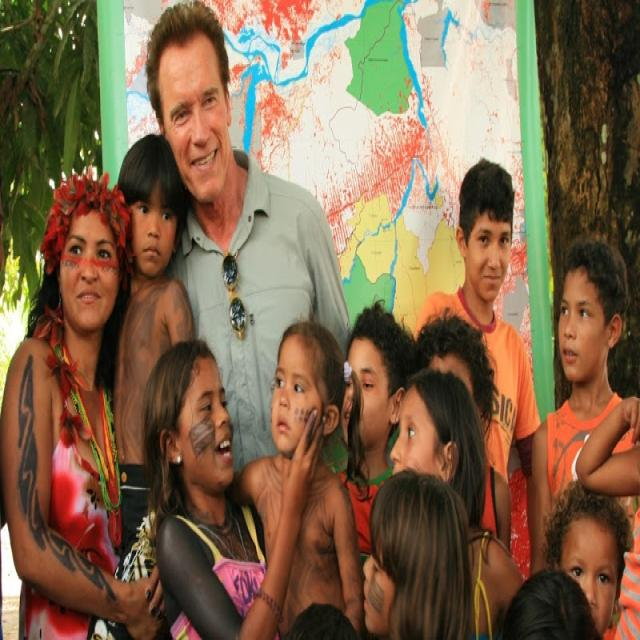body: (143, 3, 354, 475), (0, 173, 165, 640), (140, 327, 326, 639), (86, 131, 196, 640), (414, 155, 544, 582), (222, 317, 370, 639), (531, 239, 640, 575), (388, 364, 520, 640), (411, 304, 513, 562), (331, 304, 419, 566), (362, 465, 478, 640), (539, 483, 636, 640), (493, 564, 605, 638), (566, 393, 640, 482), (617, 494, 639, 638), (282, 598, 354, 638)
